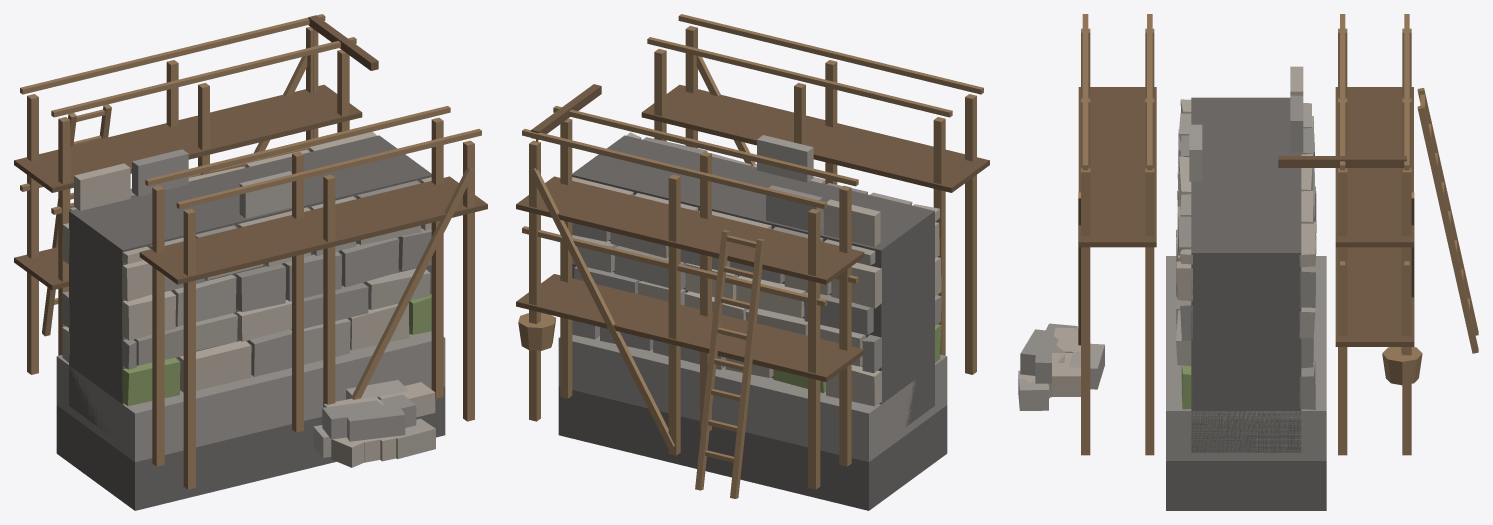
File: SM_Wall_Straight_Build02.fbx
3 views of the same model, side by side, from view 1: azimuth 30°, elevation 25°; view 2: azimuth 150°, elevation 25°; view 3: azimuth 270°, elevation 25° (orthographic). The views are drawn at different scales.
Parts seen in each view (by area): view 1: SM_Wall_Straight_Build02; view 2: SM_Wall_Straight_Build02; view 3: SM_Wall_Straight_Build02.
Part boxes in pixels (<box>): SM_Wall_Straight_Build02: <box>14,14,487,510</box>; SM_Wall_Straight_Build02: <box>516,14,989,510</box>; SM_Wall_Straight_Build02: <box>1018,14,1478,510</box>.
Bounding box in the file's own units: 4.02 × 4.15 × 5.02.
